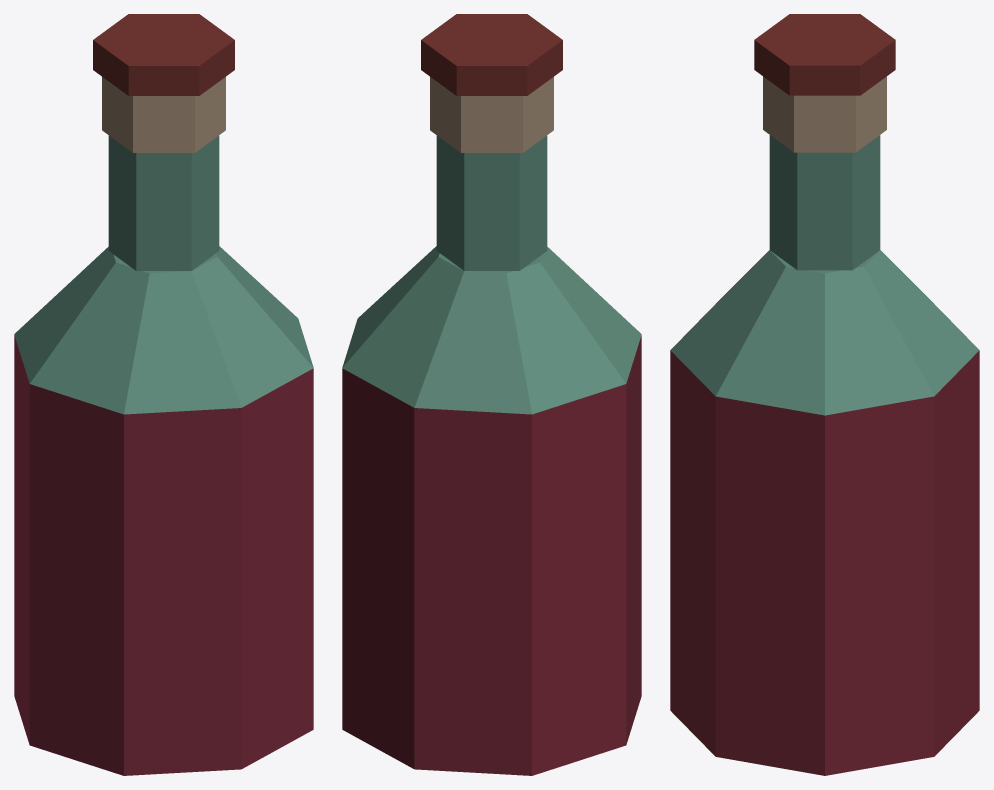
Rendered from potion_3.glb.
3 renders of one model, left to right at view 1: azimuth 30°, elevation 25°; view 2: azimuth 150°, elevation 25°; view 3: azimuth 270°, elevation 25°, orthographic.
Parts seen in each view (by area): view 1: Potion_3; view 2: Potion_3; view 3: Potion_3.
Part boxes in pixels (x1=…): Potion_3: x1=14, y1=14, x2=313, y2=775; Potion_3: x1=342, y1=14, x2=641, y2=775; Potion_3: x1=670, y1=14, x2=979, y2=775.
Bounding box in the file's own units: 0.21 × 0.5025 × 0.21.
